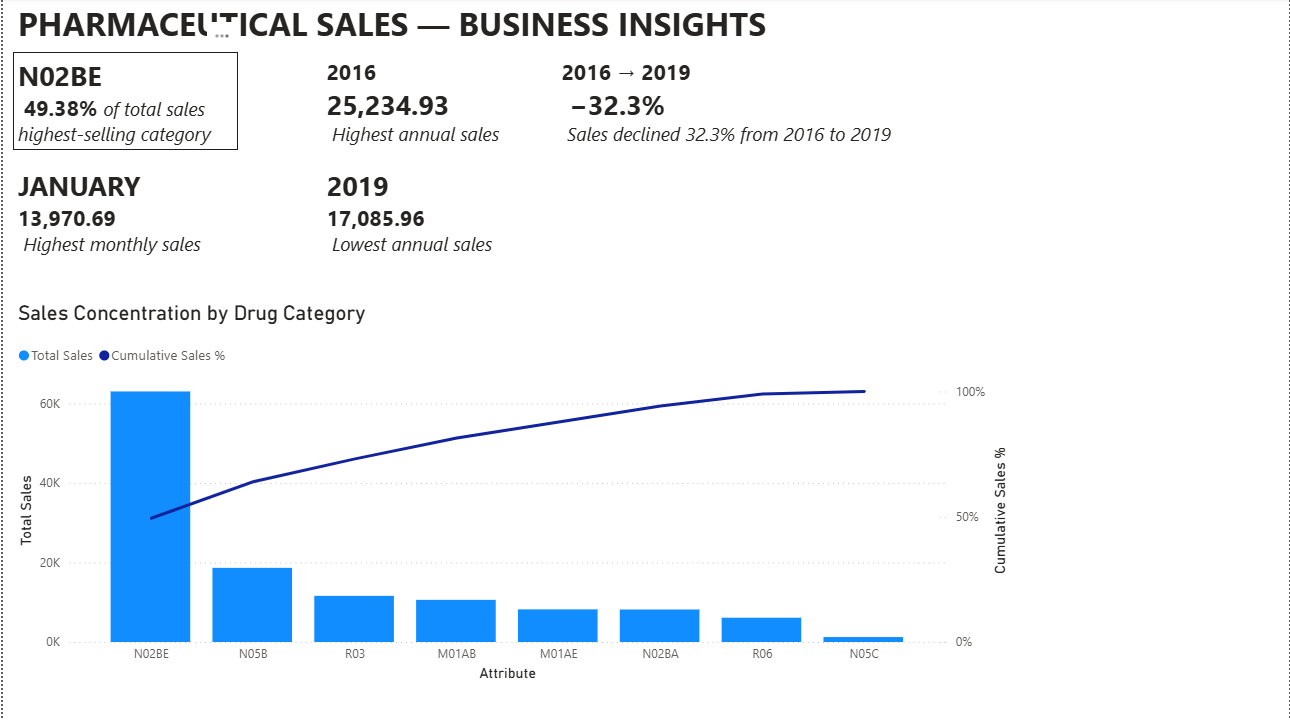

This screenshot's page, from the dashboard's own definition file:
{"tool":"powerbi","page":{"name":"Page 2","canvas":[1280,720],"ordinal":1},"visuals":[{"type":"textbox","box":[10,0,1270,54.3],"z":0},{"type":"textbox","box":[10,54.3,224.3,98.6],"z":1000},{"type":"textbox","box":[317.1,54.3,234.3,98.6],"z":2000},{"type":"textbox","box":[10,164.2,223.9,104.5],"z":3000},{"type":"textbox","box":[317.2,164.2,222.7,104.5],"z":4000},{"type":"textbox","box":[551.4,54.3,395.7,98.6],"z":5000},{"type":"lineClusteredColumnComboChart","title":"Sales Concentration by Drug Category","fields":{"Category":["salesdaily.Attribute"],"Y":["salesdaily.Total Sales"],"Y2":["salesdaily.Cumulative Sales %"]},"box":[10,302.3,995.2,383.1],"z":6000}]}

Visuals, with their boxes in screenshot pixels (x1, y1, x2, y2), scaled from the page's 1280x720 canvas onto the 1290x720 screenshot:
textbox: (x1=10, y1=0, x2=1289, y2=54)
textbox: (x1=10, y1=54, x2=236, y2=153)
textbox: (x1=320, y1=54, x2=556, y2=153)
textbox: (x1=10, y1=164, x2=236, y2=269)
textbox: (x1=320, y1=164, x2=544, y2=269)
textbox: (x1=556, y1=54, x2=954, y2=153)
"Sales Concentration by Drug Category" lineClusteredColumnComboChart: (x1=10, y1=302, x2=1013, y2=685)
